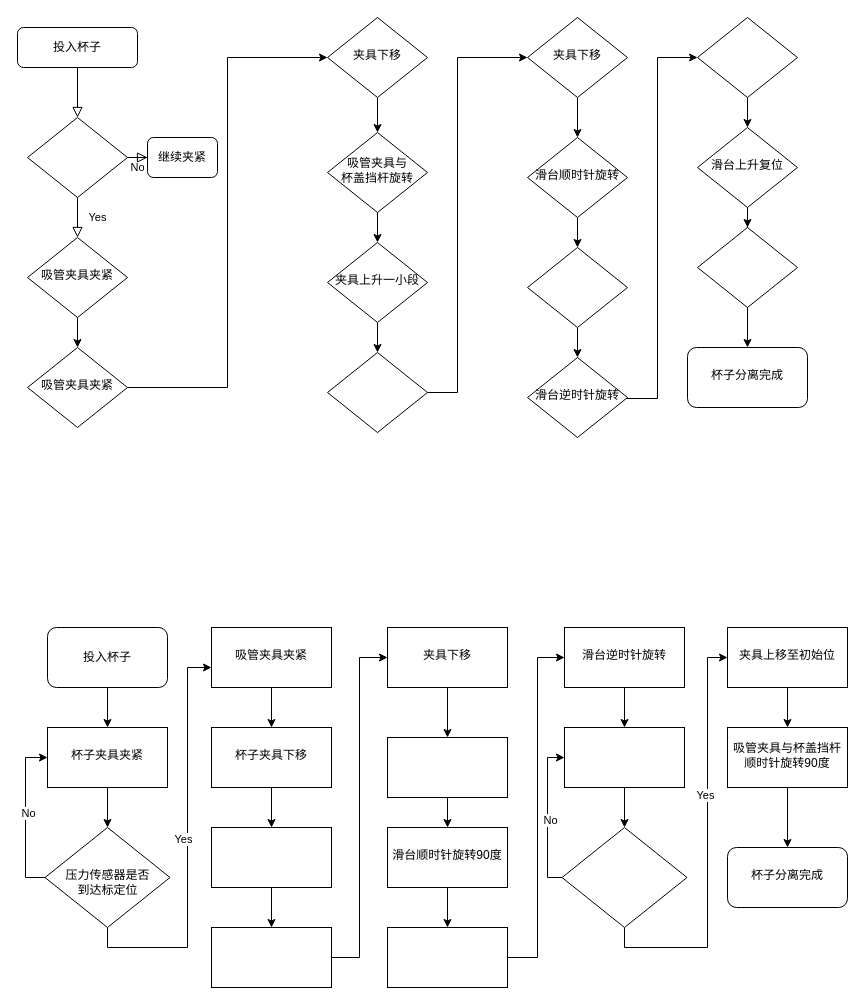
Image size: 865x1005. Some labels were removed from this diagram. The centre of each missing label's shape, as x and y in pixels:
压力传感器是否 到达零点位: the point at 624,877
吸管夹具 旋转复位: the point at 747,267
吸管夹具与杯盖挡杆逆时针旋转90度: the point at 271,857
夹具上移: the point at 447,767
夹具松开至 压力传感器 检测为0: the point at 747,57
夹具翻转: the point at 577,287
夹紧至 压力传感器到达标定位: the point at 77,157
杯子夹具翻转: the point at 447,957
杯盖挡杆与 吸管夹具旋转: the point at 377,392
松开吸管夹具: the point at 271,957
松开杯子夹具: the point at 624,757
